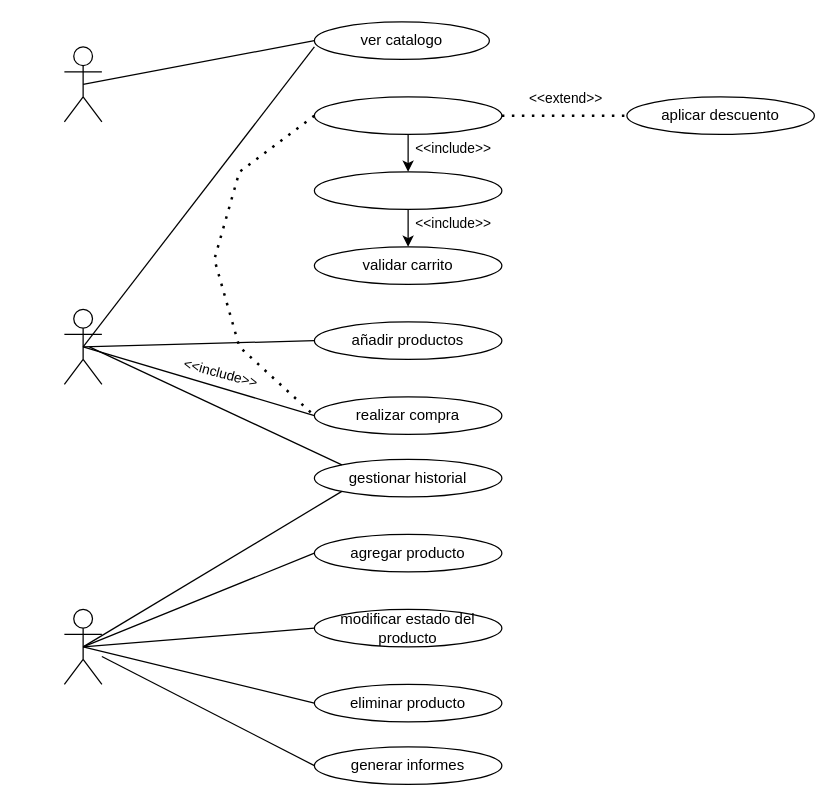
Some shapes in this 836 by 806 pixel diagram are drawn without their labels. The centre of each missing label's shape, as x and y in pixels:
"Administrador" belongs at (82,646).
"Cliente nuevo" belongs at (82,84).
"Cliente Registrado" belongs at (82,346).
"procesar pago" belongs at (407,115).
"verificar carrito" belongs at (407,190).
